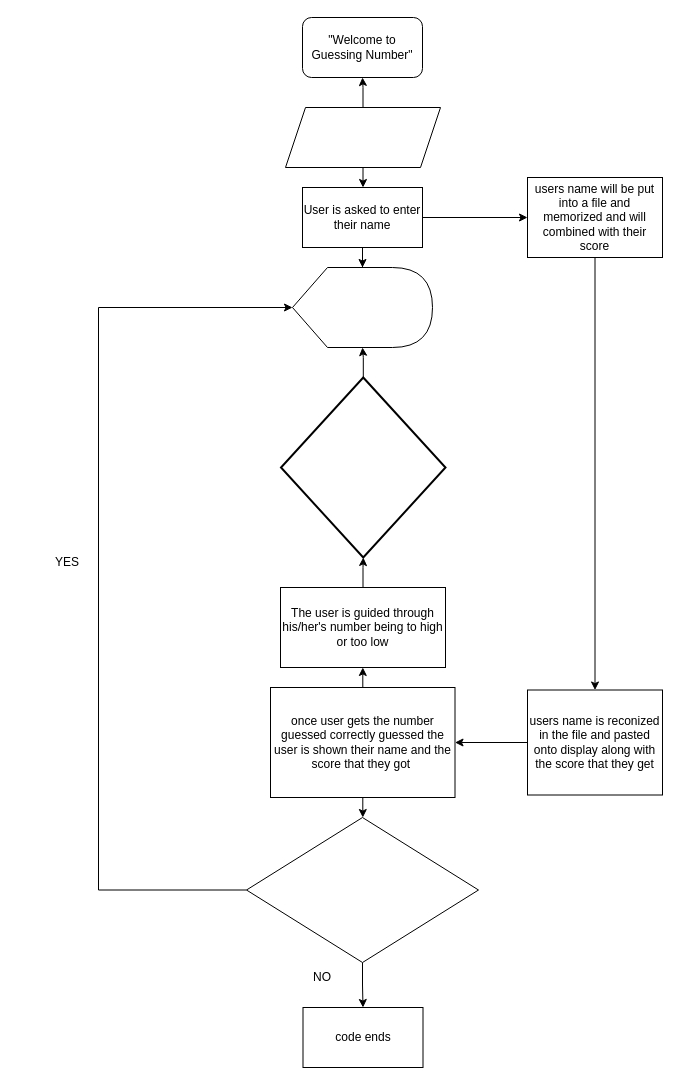
This 680x1085 diagram has some shape labels left out. The shapes that lost their labels are listed below. From the top down, each one's box as (x1, y1, x2, y2) in pixels, then its label:
(284, 106, 440, 168): Press Enter to Start
(292, 266, 432, 348): Enter a number from 1-100
(280, 376, 446, 558): User has to narrow the number down
(246, 816, 478, 962): User is asked if they want to play again
